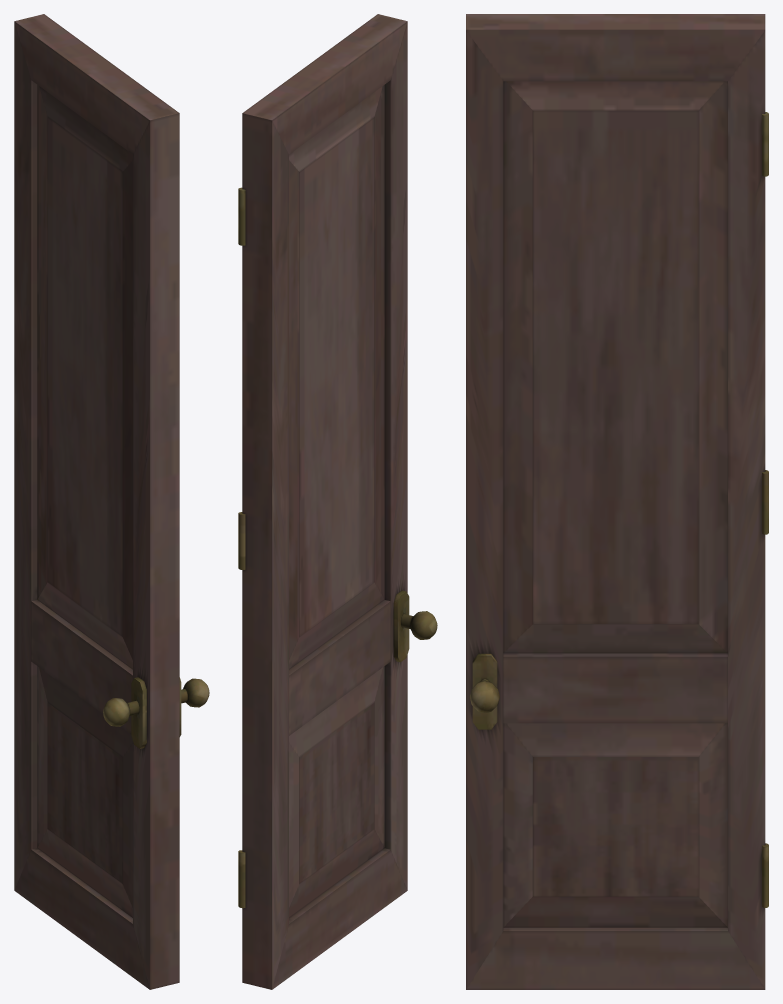
Rendered from doorframe_01_door_01a_muertos_chapel.glb.
The picture shows the model from 3 angles, left to right: view 1: azimuth 30°, elevation 25°; view 2: azimuth 150°, elevation 25°; view 3: azimuth 270°, elevation 25°; orthographic projection. The views are drawn at different scales.
Parts seen in each view (by area): view 1: doorframe_01_door_01a_muertos_chapel; view 2: doorframe_01_door_01a_muertos_chapel; view 3: doorframe_01_door_01a_muertos_chapel.
Part boxes in pixels (x1,y1,x2,y2): doorframe_01_door_01a_muertos_chapel: (14,14,209,989); doorframe_01_door_01a_muertos_chapel: (238,14,437,989); doorframe_01_door_01a_muertos_chapel: (466,14,768,989).
Bounding box in the file's own units: 0.3291 × 2.66 × 0.7608.
Materials: 1 (1 with a texture image).
